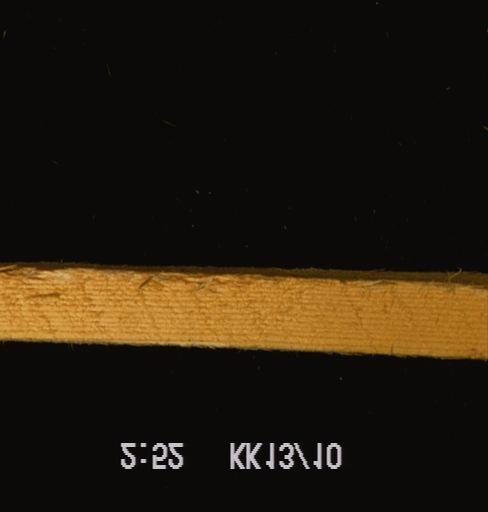wave: (243, 268, 487, 289)
